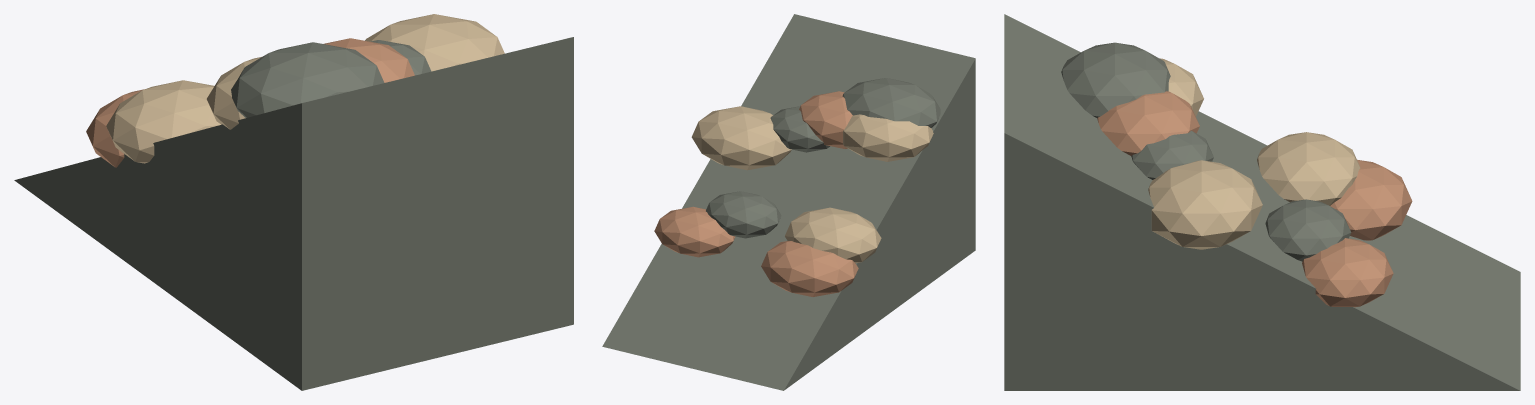
File: debris_ramp_03.glb
The picture shows the model from 3 angles, left to right: view 1: azimuth 30°, elevation 25°; view 2: azimuth 150°, elevation 25°; view 3: azimuth 270°, elevation 25°; orthographic projection. The views are drawn at different scales.
Visible parts, largest first — view 1: core, lump0, lump4, lump7, lump2, lump1, lump5, lump6; view 2: core, lump7, lump5, lump4, lump0, lump1, lump8, lump3, lump2, lump6; view 3: core, lump7, lump4, lump0, lump8, lump5, lump2, lump3, lump6, lump1.
Boxes of the visible parts, x1,y1,x2,y2 form: core: (14,37,573,390); lump0: (231,42,384,117); lump4: (106,80,220,163); lump7: (365,14,504,71); lump2: (324,38,414,82); lump1: (206,57,261,129); lump5: (86,89,143,167); lump6: (371,40,431,75); core: (602,14,975,390); lump7: (691,106,791,170); lump5: (761,241,858,296); lump4: (785,207,881,263); lump0: (842,78,940,127); lump1: (843,114,933,161); lump8: (654,206,735,257); lump3: (706,191,781,238); lump2: (799,91,852,148); lump6: (770,106,829,152); core: (1004,14,1520,390); lump7: (1148,160,1262,249); lump4: (1257,132,1360,205); lump0: (1061,42,1170,117); lump8: (1302,238,1393,307); lump5: (1330,159,1412,240); lump2: (1097,91,1199,155); lump3: (1265,199,1351,261); lump6: (1131,130,1213,179); lump1: (1159,58,1203,116).
Size of the model in its own units: 1.09 by 0.91 by 1.65.
